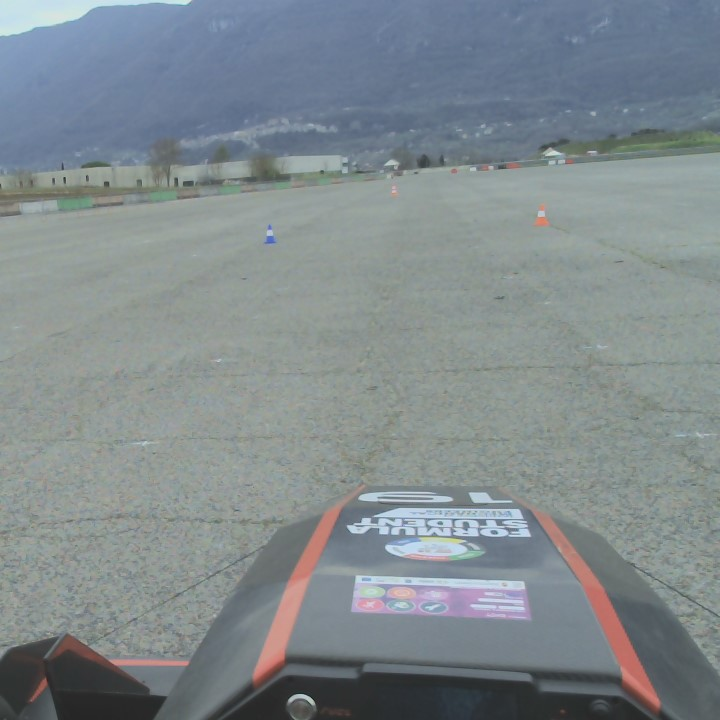cone: (265, 224, 278, 243)
